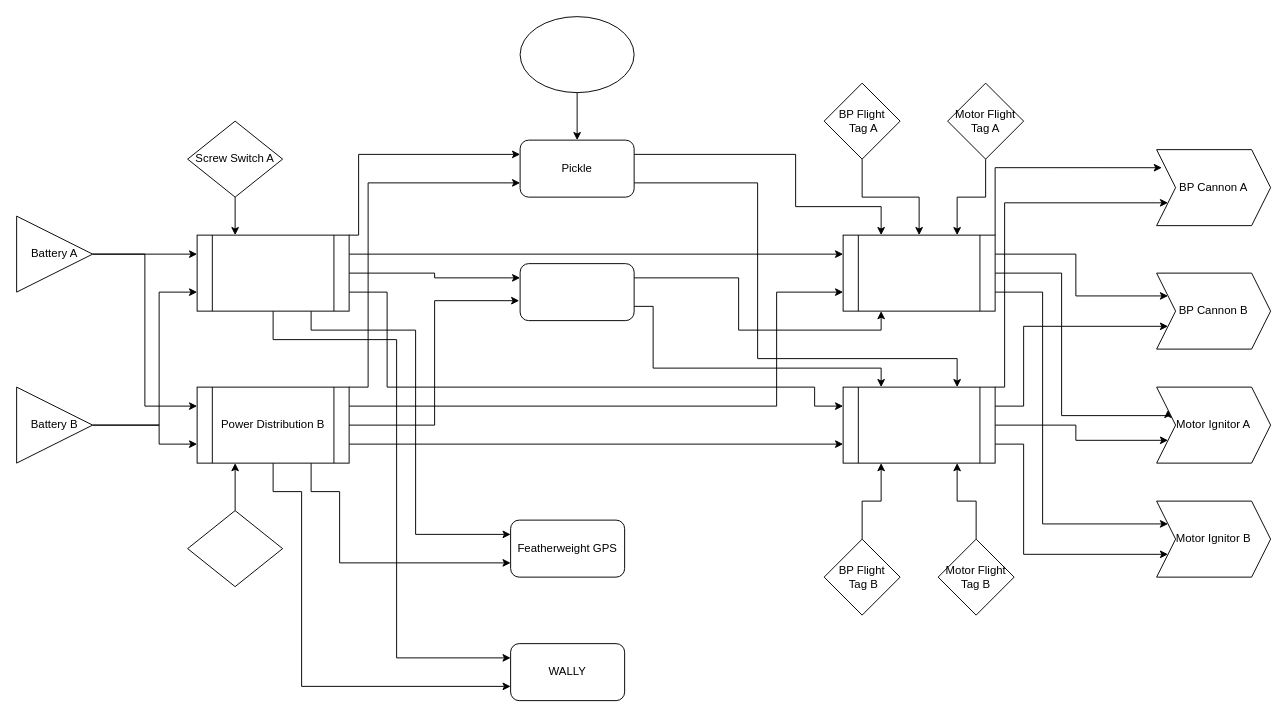
The diagram is 1287 pixels wide and 717 high, and some of its shapes have lost their labels. The centre of each missing label's shape, as x and y in pixels:
"Blue Raven" belongs at point (576, 292).
"Interlock A" belongs at point (918, 272).
"Interlock B" belongs at point (918, 424).
"Power Distribution A" belongs at point (272, 272).
"Screw Switch B" belongs at point (235, 548).
"Supplementary Barometer" belongs at point (576, 54).
